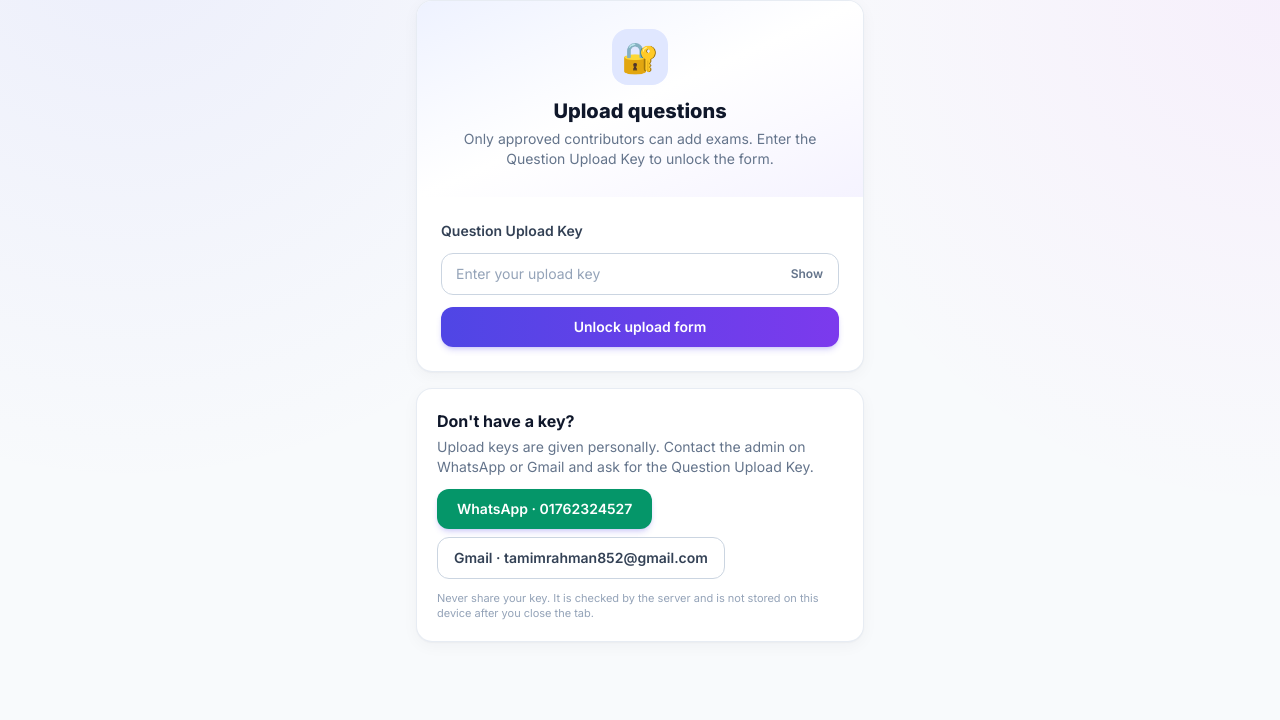
Scenario: the server's lockout message is shown
In the password field labelled "Question Upload Key": coordinates (640, 274) [441,253,839,295], type "throttled"
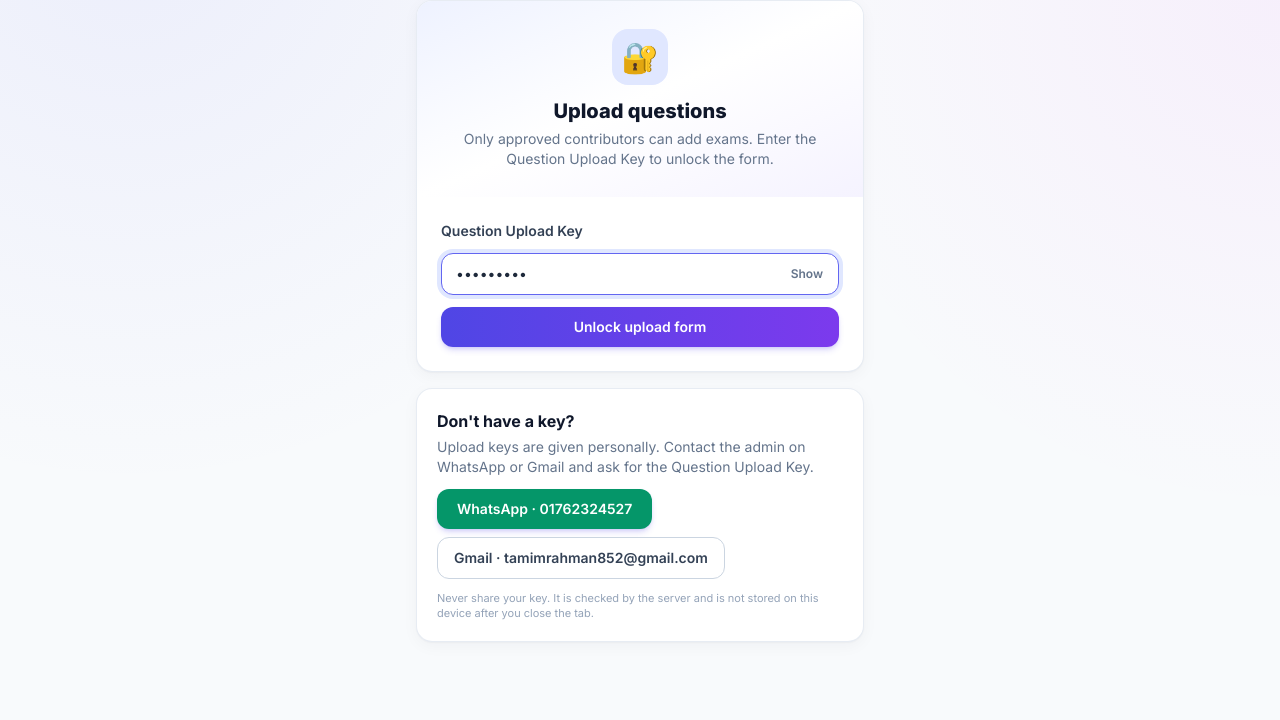
Click the button "Unlock upload form": coordinates (640, 327) [441,307,839,347]
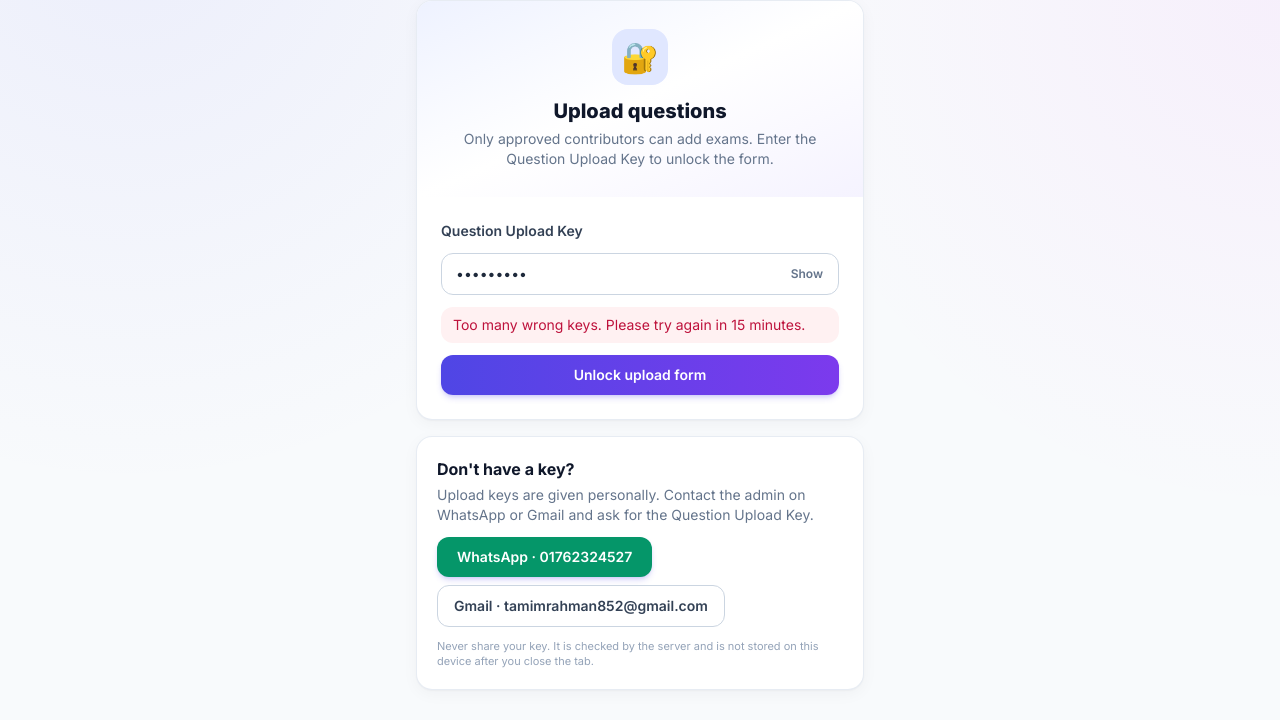
Check: the message shows "Too many wrong keys", box [453,316,805,333]
